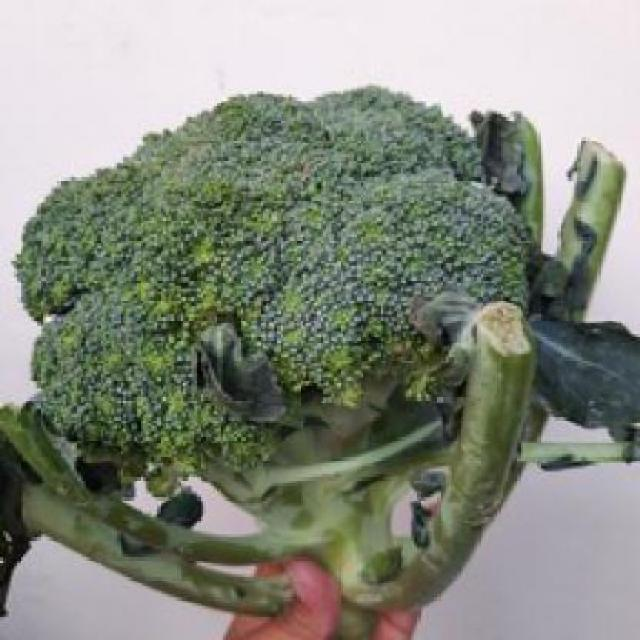broccoli: (17, 115, 623, 594)
